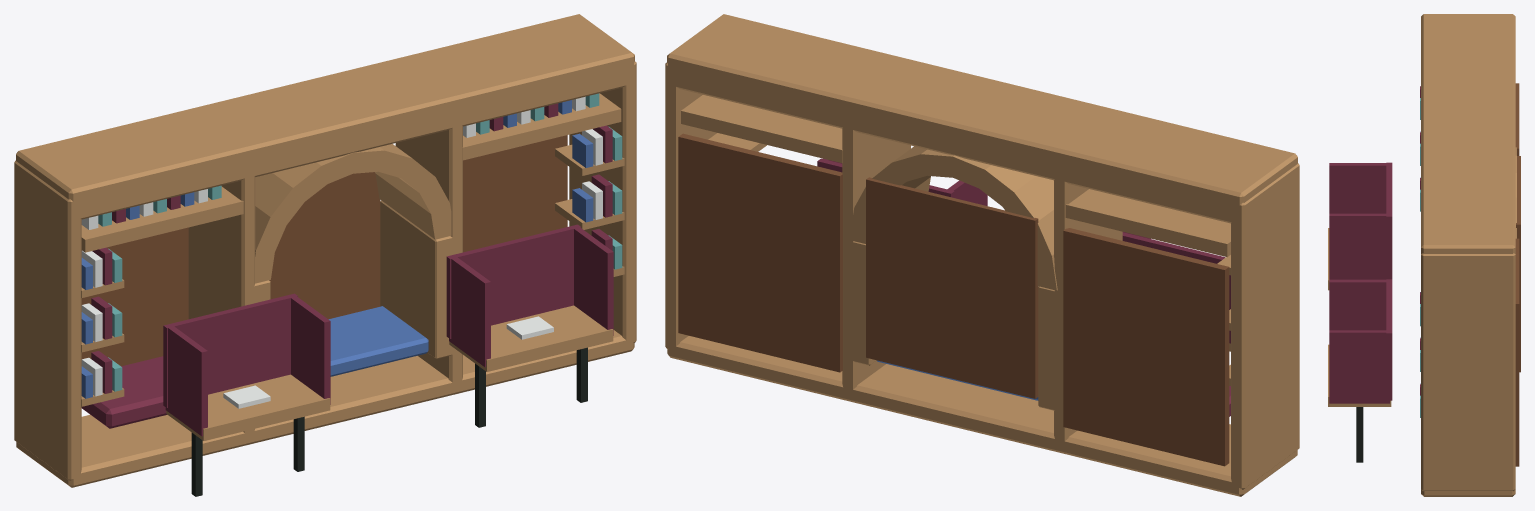
The model's file is gh_library_v01.glb.
The picture shows the model from 3 angles, left to right: view 1: azimuth 30°, elevation 25°; view 2: azimuth 150°, elevation 25°; view 3: azimuth 270°, elevation 25°; orthographic projection. The views are drawn at different scales.
Parts seen in each view (by area): view 1: Pale oak sit-in library and burgundy carrels; view 2: Pale oak sit-in library and burgundy carrels; view 3: Pale oak sit-in library and burgundy carrels.
Boxes of the visible parts, left/top/right/bottom form: Pale oak sit-in library and burgundy carrels: left=14, top=14, right=636, bottom=496; Pale oak sit-in library and burgundy carrels: left=665, top=14, right=1299, bottom=496; Pale oak sit-in library and burgundy carrels: left=1328, top=14, right=1520, bottom=496.
Bounding box in the file's own units: 6.03 × 3.02 × 2.1.
1 material, 1 textured.
